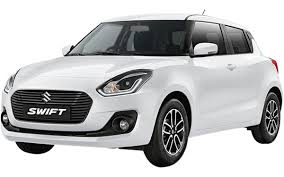Swift: (1, 10, 284, 166)
